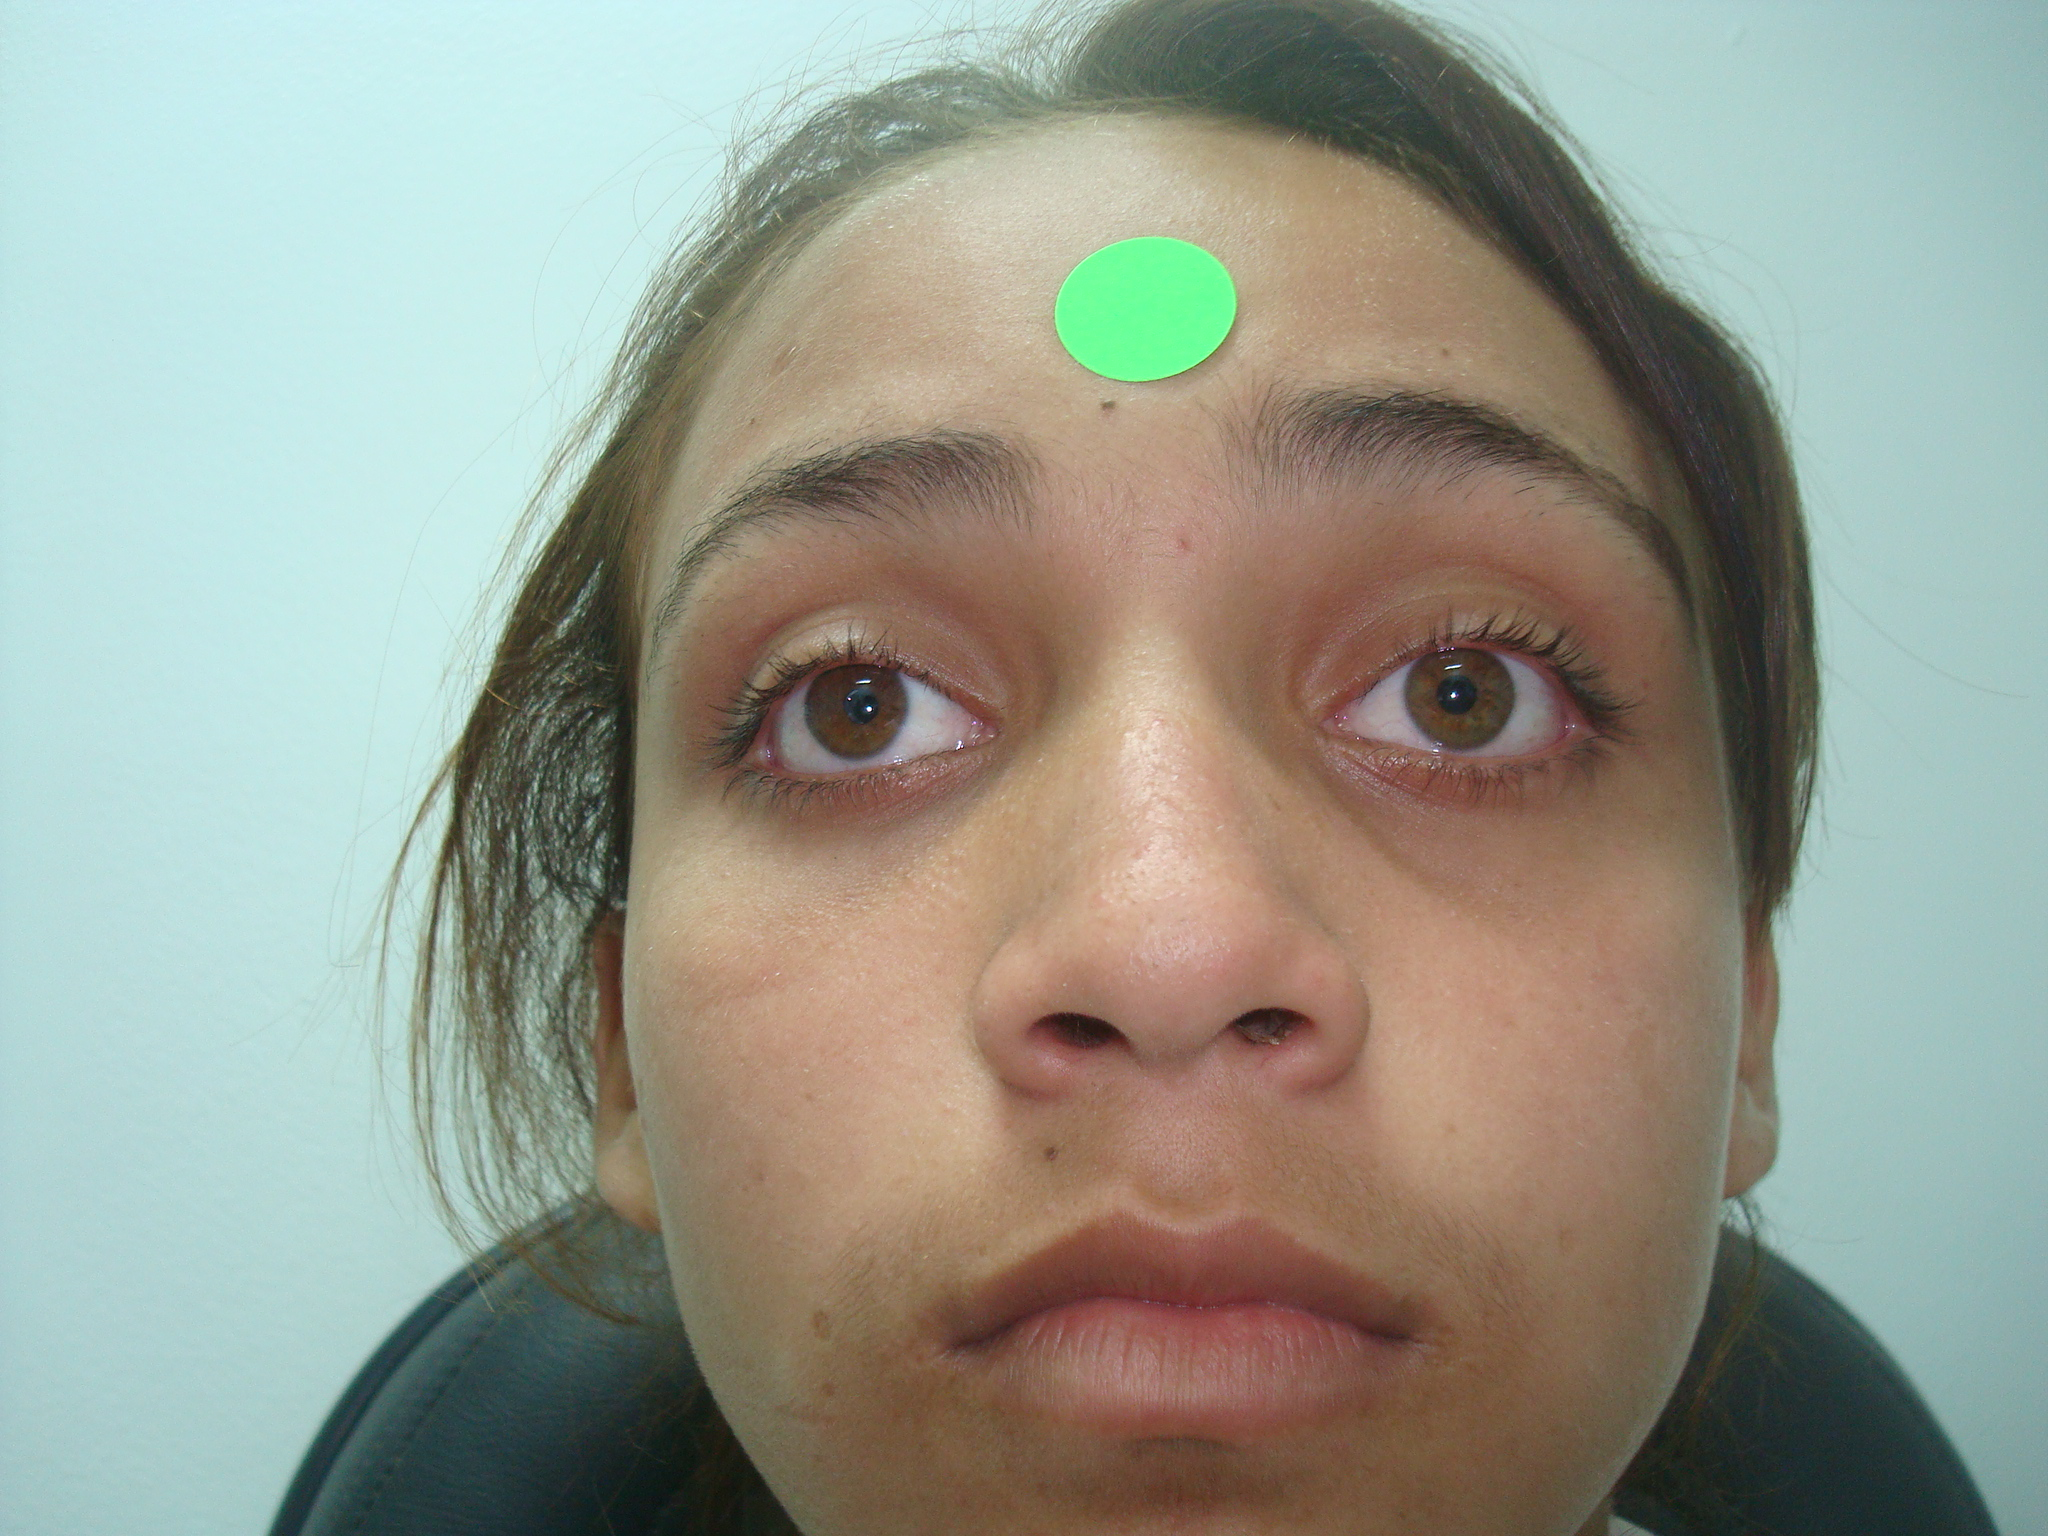flash: (861, 702, 876, 716), (1447, 689, 1461, 702)
limbo: (1401, 641, 1511, 750), (806, 652, 914, 758)
